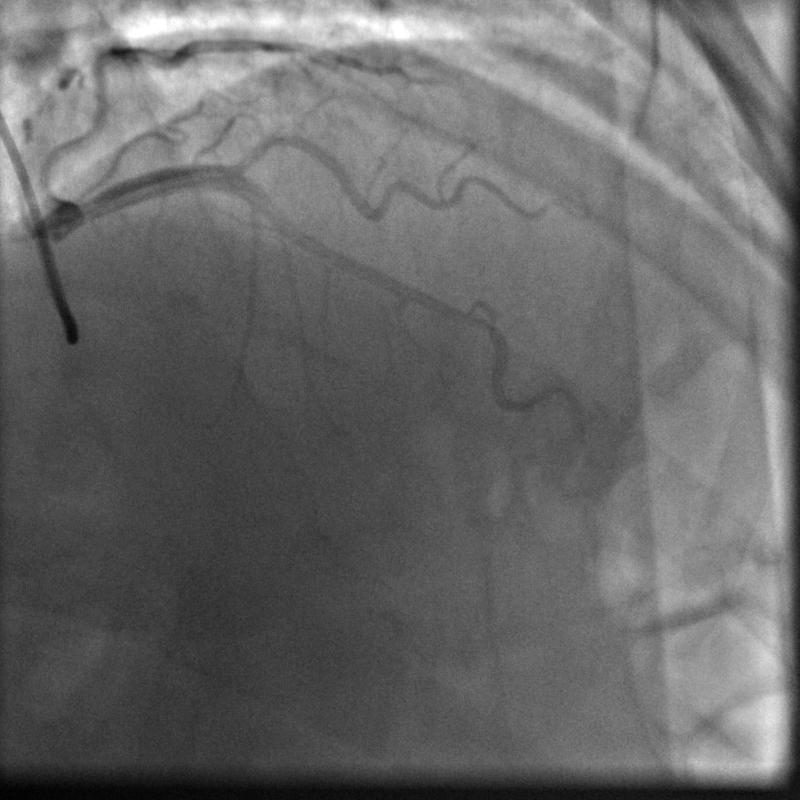Stenosis: (449, 297, 505, 348)
